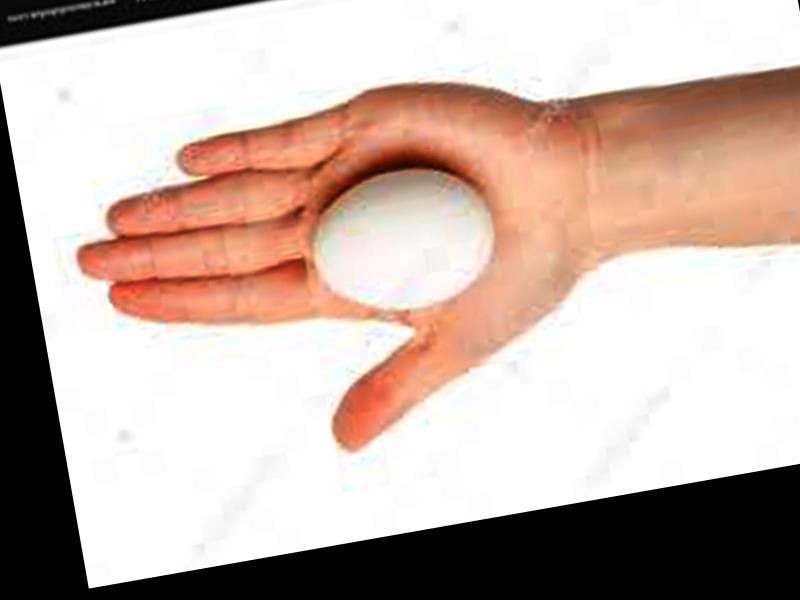Eggs: (302, 162, 503, 320)
